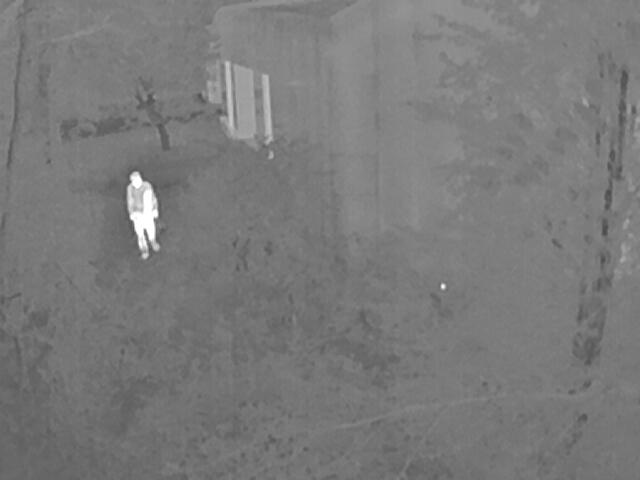person: (126, 171, 160, 260)
